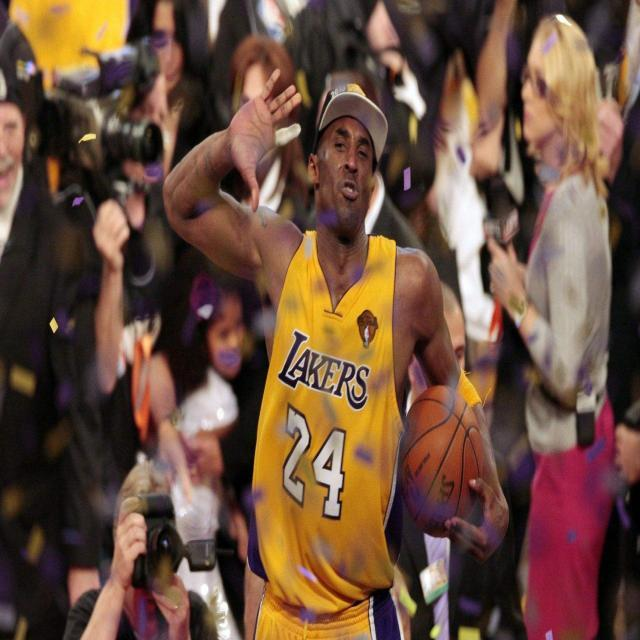rim: (401, 388, 484, 539)
